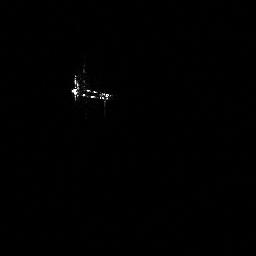ship: (71, 73, 111, 101)
